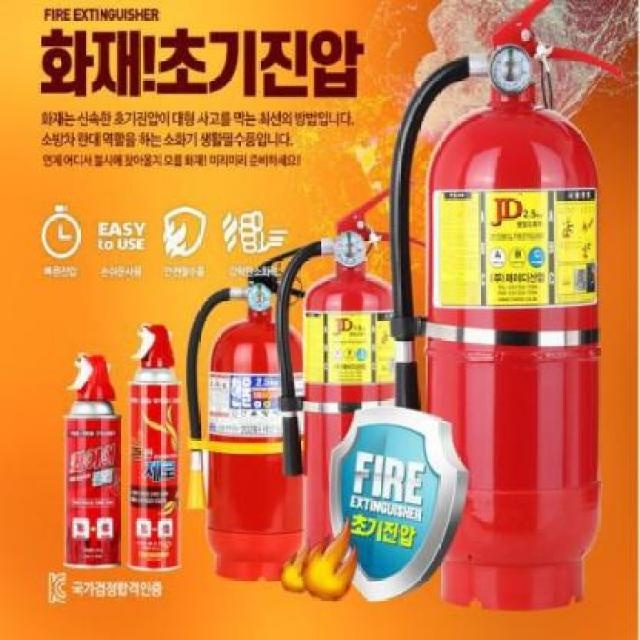fire extinguisher: (389, 0, 626, 611), (276, 186, 395, 551), (186, 246, 305, 582)
